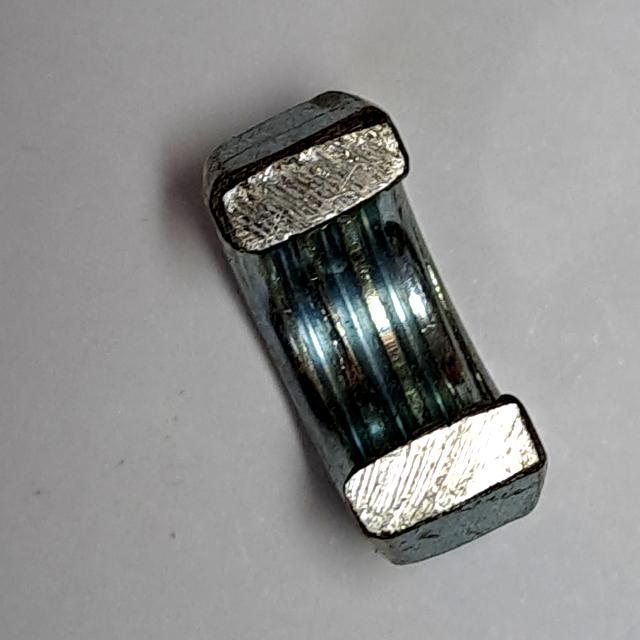Side-Fracture: (188, 73, 556, 583)
